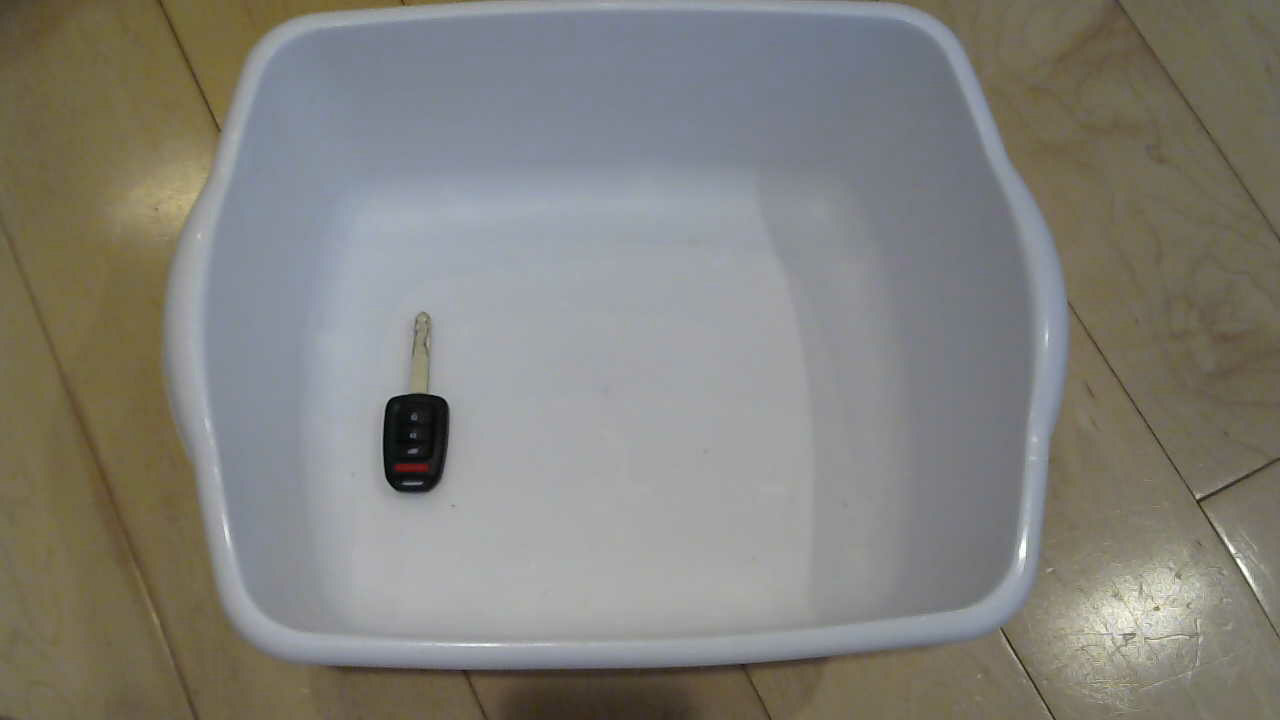key: (364, 308, 469, 507)
